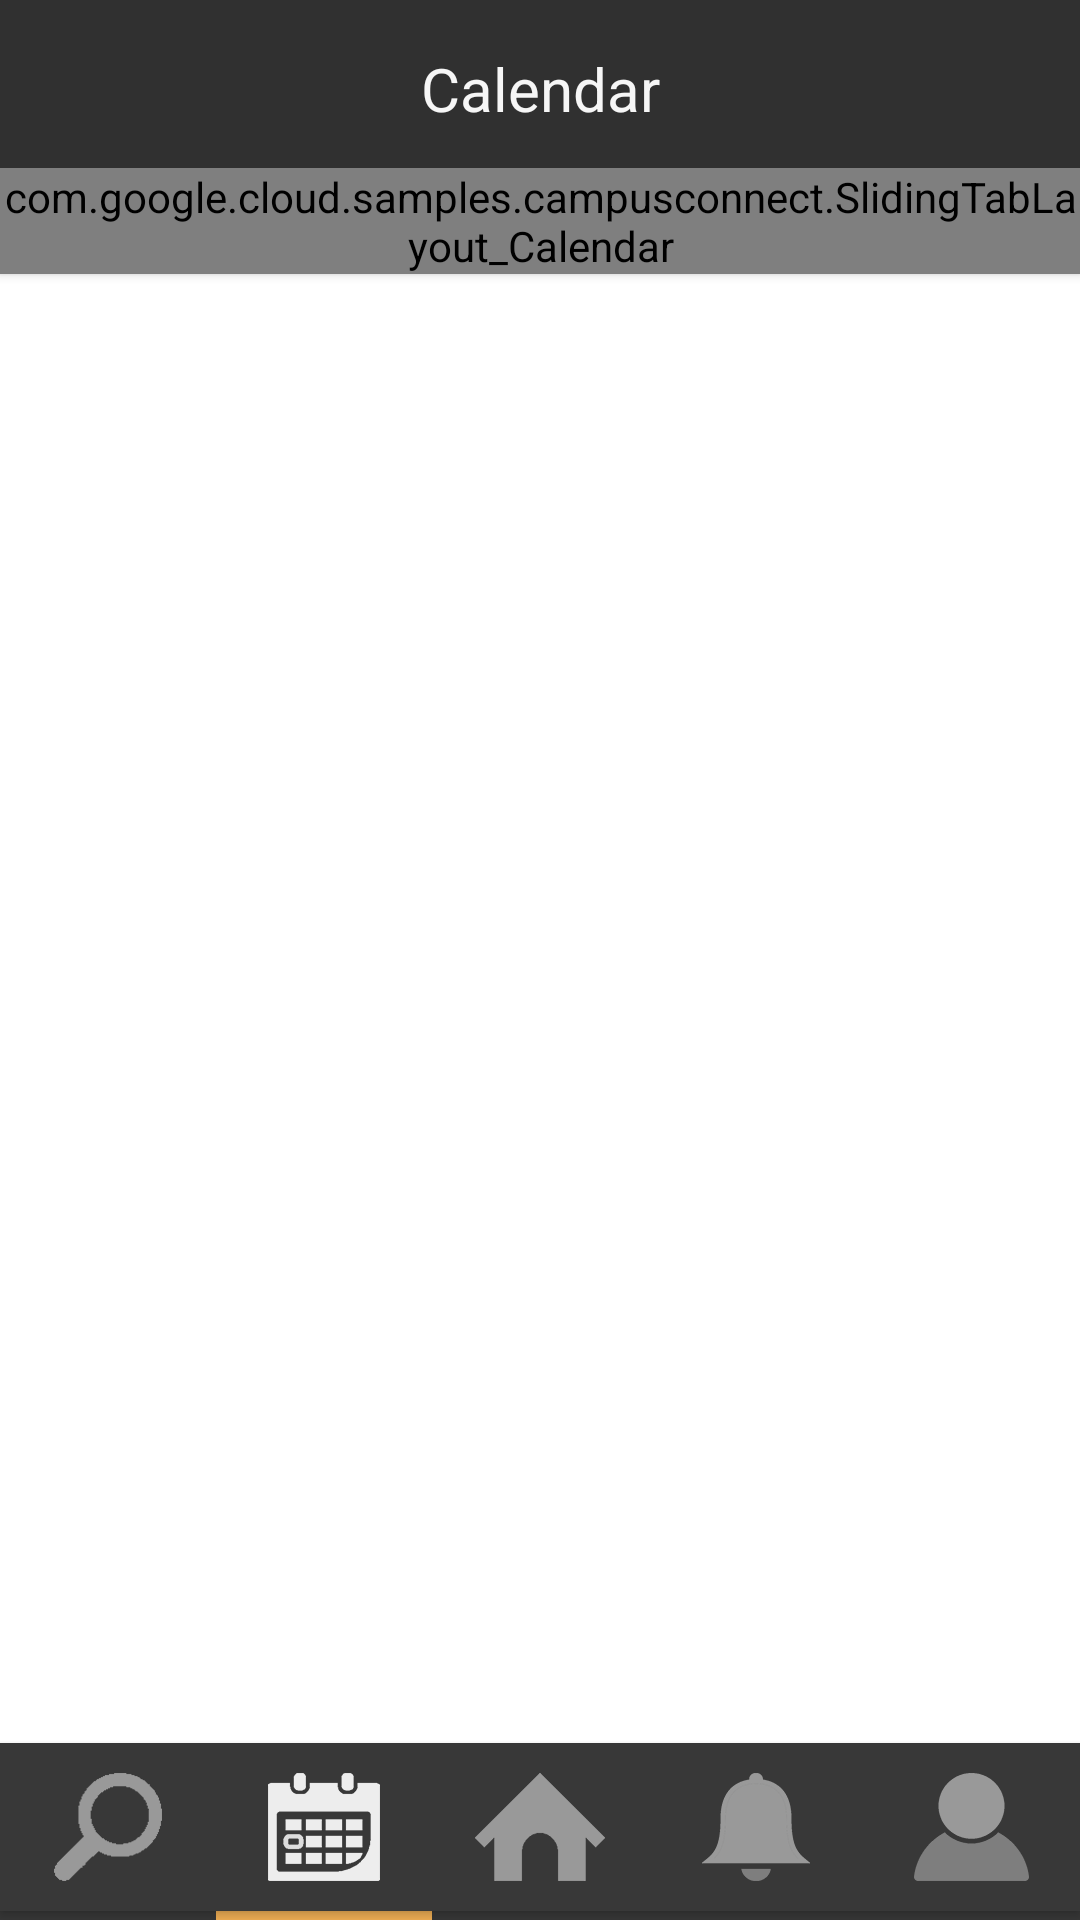

Where to tap for icons on this 1080*1920 app screen, as (x=x, y=y):
event: (x=324, y=1827)
home: (x=540, y=1827)
notification: (x=756, y=1827)
profile: (x=971, y=1827)
search: (x=108, y=1827)
